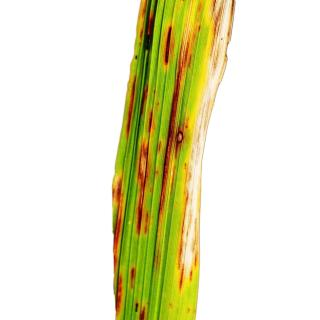Bercak-Cokelat-Sempit: (130, 138, 155, 241), (108, 171, 127, 276), (119, 74, 142, 145), (168, 123, 196, 164), (124, 258, 146, 295), (160, 23, 176, 70)
